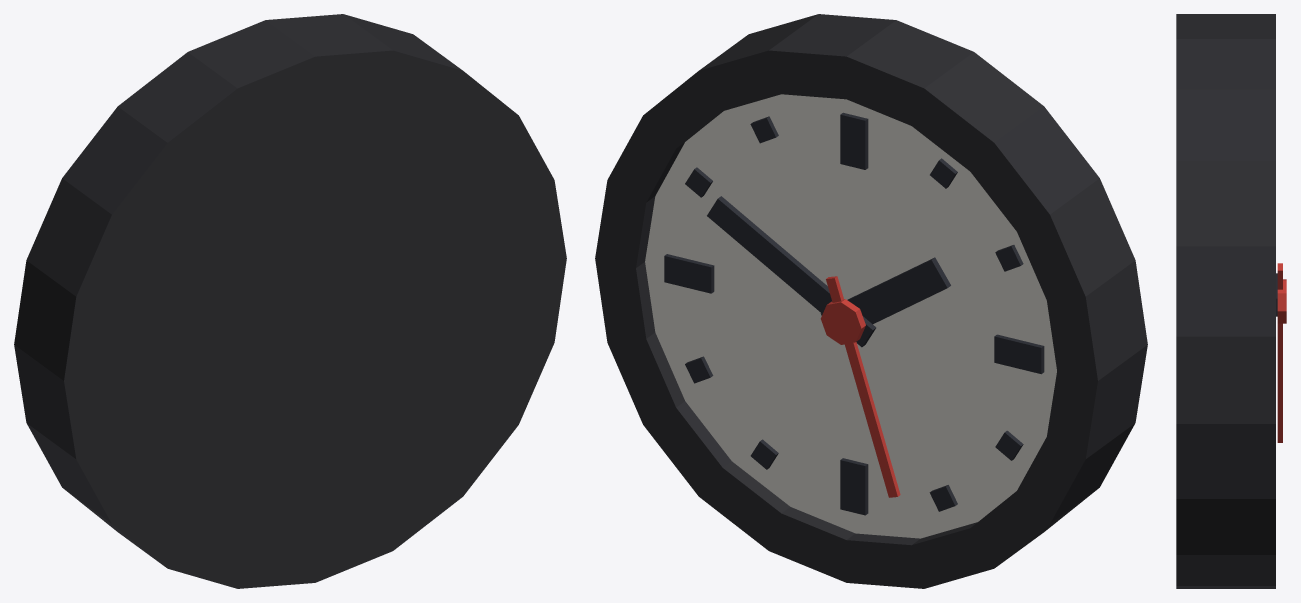
File: FN_Clock_Wall.glb
3 renders of one model, left to right at view 1: azimuth 30°, elevation 25°; view 2: azimuth 150°, elevation 25°; view 3: azimuth 270°, elevation 25°, orthographic.
Visible parts, largest first — view 1: FN_Clock_Wall; view 2: FN_Clock_Wall; view 3: FN_Clock_Wall.
Part boxes in pixels (x1,y1,x2,y2): FN_Clock_Wall: (14,14,566,588); FN_Clock_Wall: (595,14,1147,588); FN_Clock_Wall: (1176,14,1286,588).
Bounding box in the file's own units: 0.32 × 0.32 × 0.061.
Materials: 1 (1 with a texture image).
